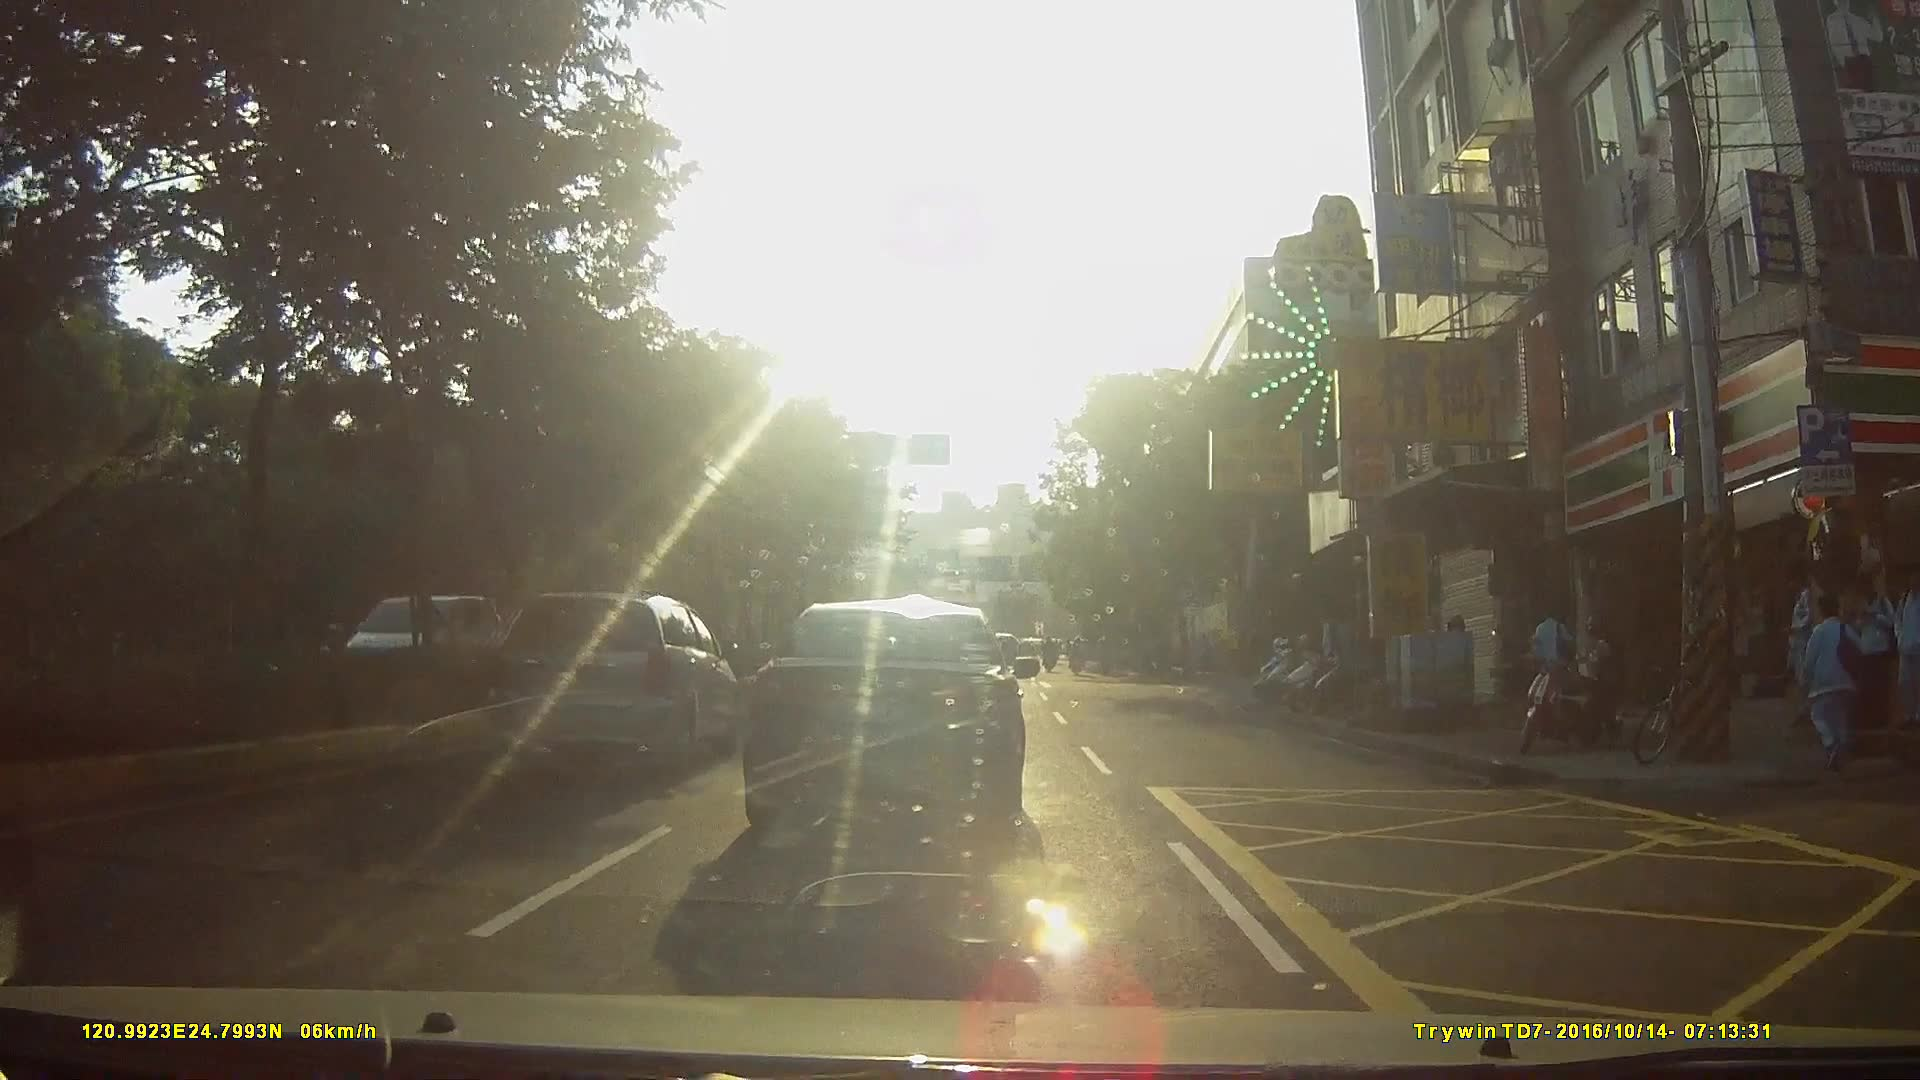pedestrian: (1807, 595, 1879, 779), (1783, 548, 1829, 745), (1573, 617, 1624, 753), (1527, 603, 1583, 720), (1887, 563, 1920, 732)
vehicle: (740, 600, 1045, 853), (482, 588, 754, 771), (344, 590, 540, 696)
